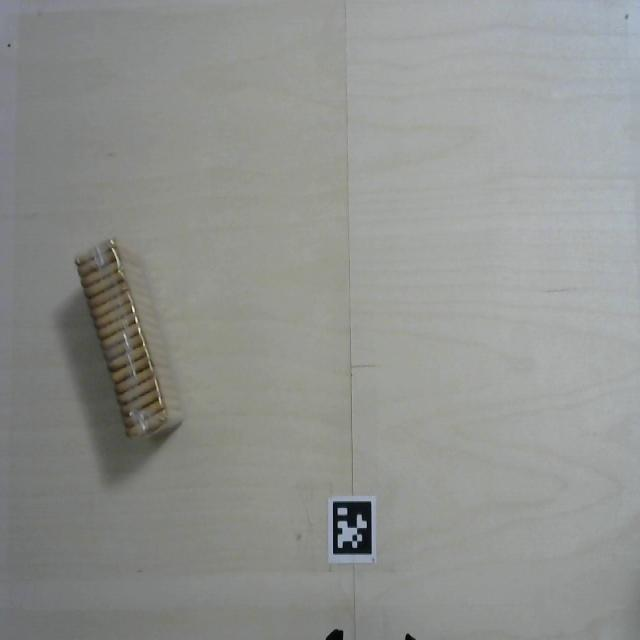biscuit: (71, 221, 197, 460)
